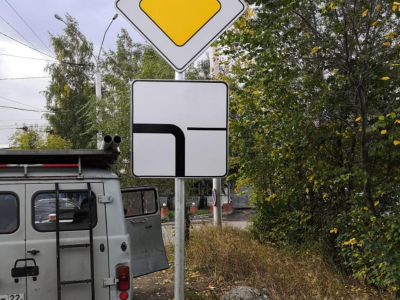crosswalk: (115, 2, 245, 69)
